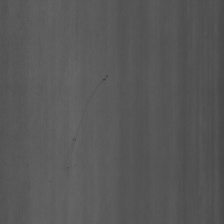water_spot: (67, 62, 109, 178)
